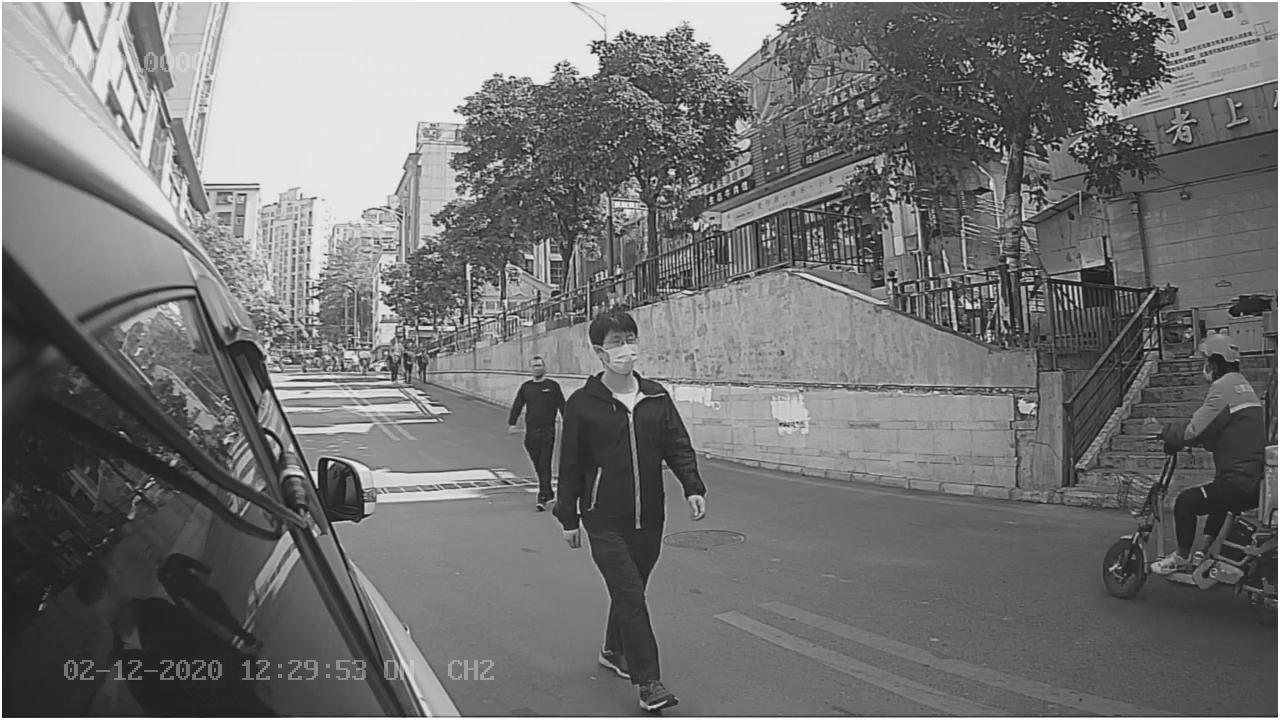person: (555, 303, 710, 711)
